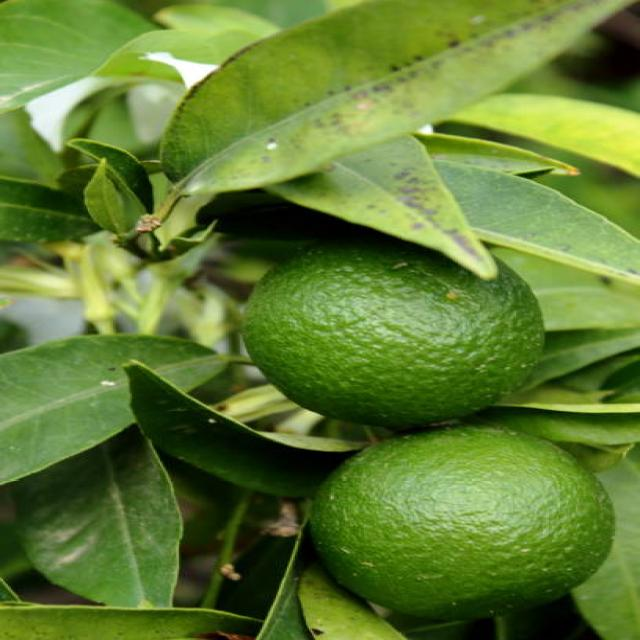Unripe: (245, 230, 550, 430), (314, 422, 616, 616)
